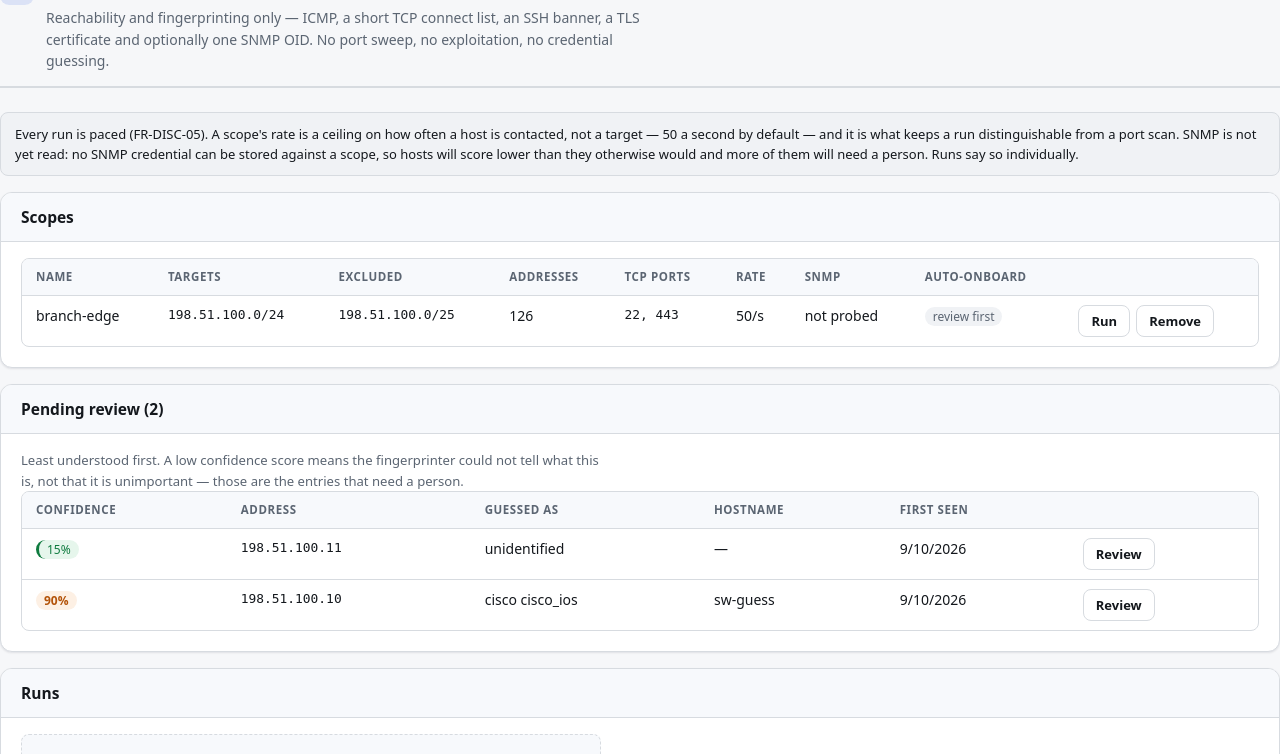
DiscoveryPage › the review queue › explains an empty fingerprint rather than showing a blank panel
This screenshot has width=1280, height=754.
expect the text "198.51.100.11" is shown: met, box [227, 528, 471, 580]
Click the button "Review" in the row of "15": (1119, 554) [1083, 538, 1155, 570]
(page scrolled)
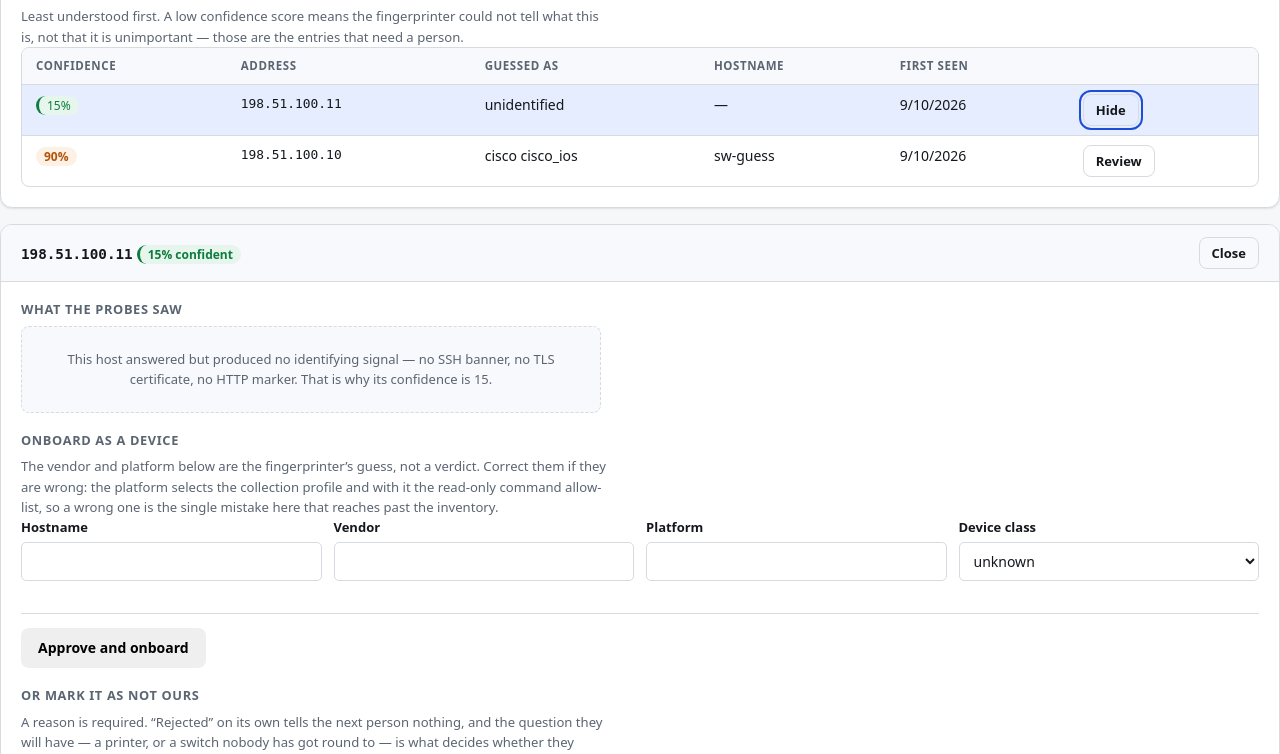
expect the text "no identifying signal" is shown: met, box [67, 350, 555, 388]
